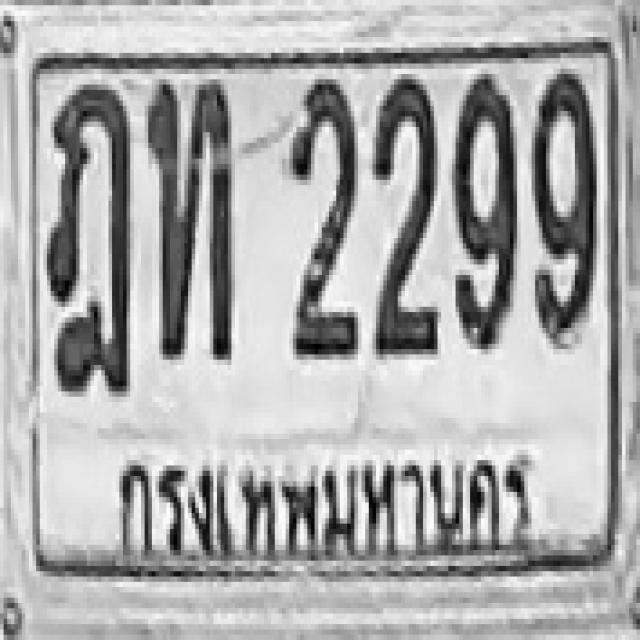0: (530, 69, 595, 338), (452, 69, 513, 344)
2: (286, 74, 354, 354), (370, 71, 436, 352)
23DorChaDa: (44, 82, 130, 394)
32ThorThaHan: (144, 77, 232, 357)
9: (530, 71, 595, 342), (452, 69, 513, 344)
Bangkok: (109, 436, 545, 576)
